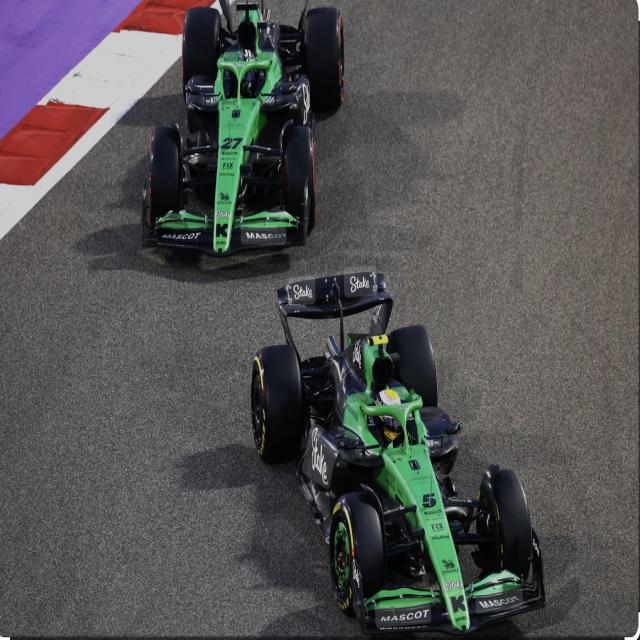Kick Sauber: (250, 269, 548, 637), (140, 2, 344, 270)
